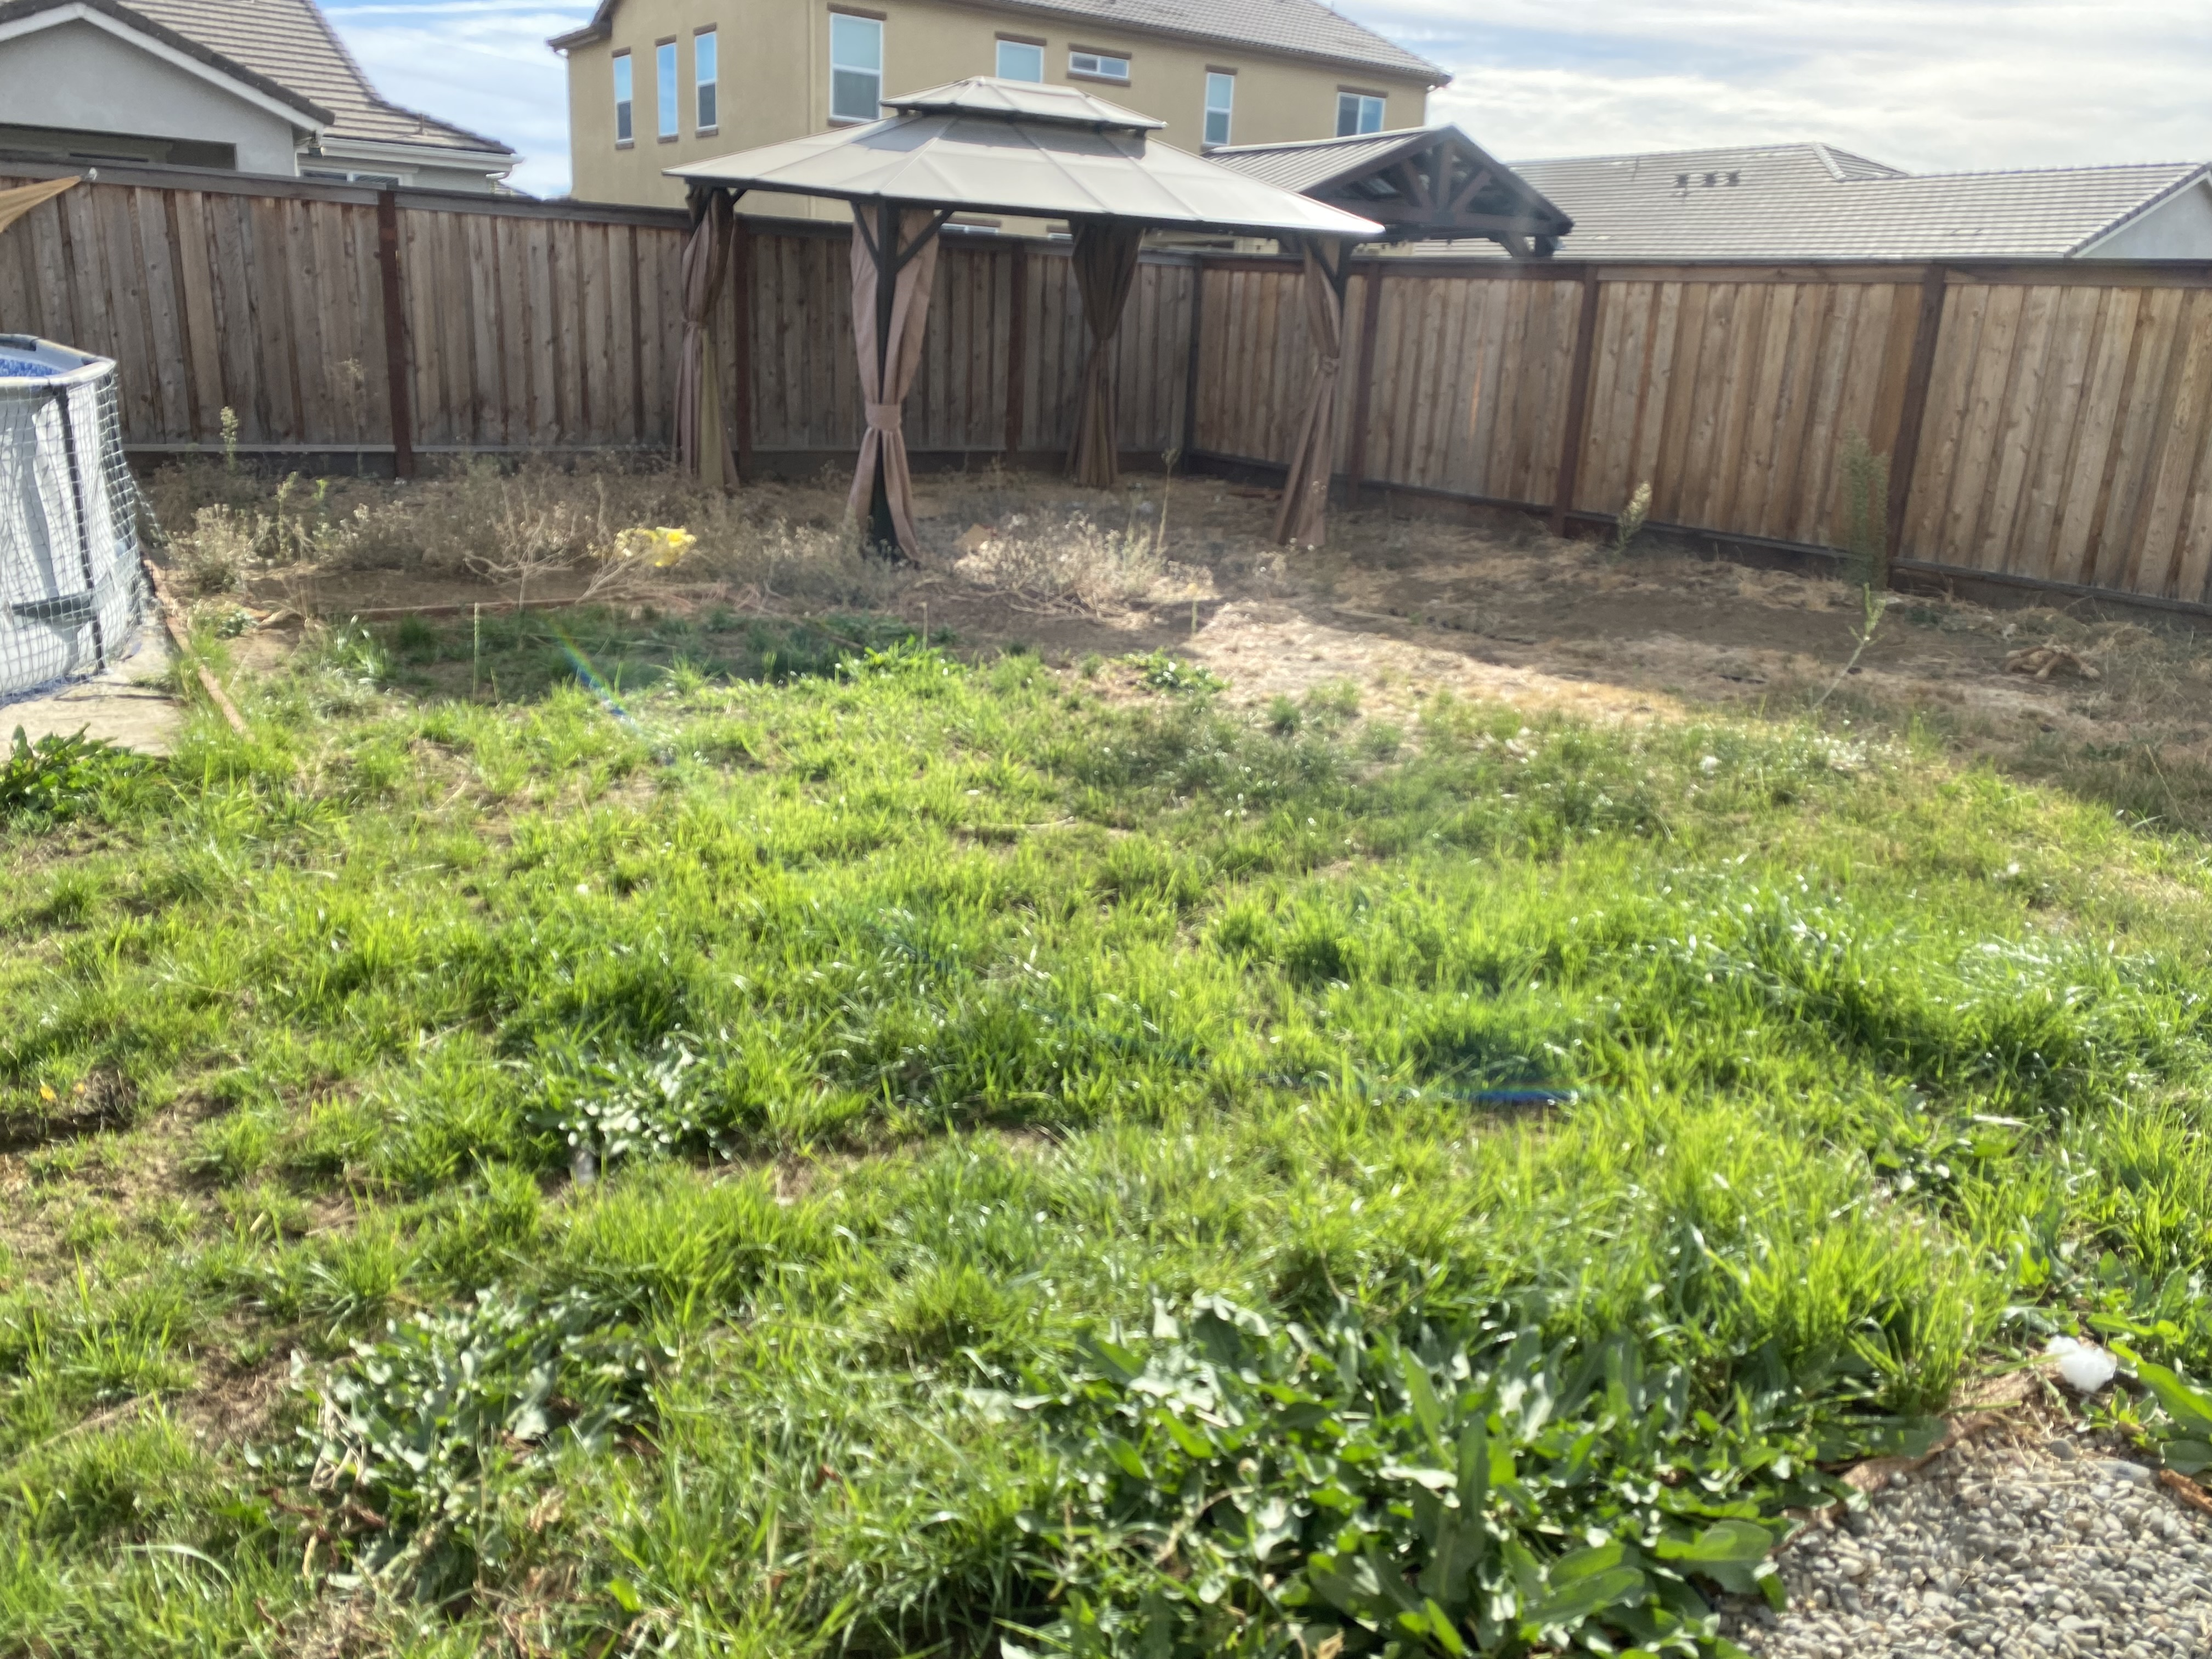weed: (1029, 1276, 1970, 1659), (369, 1298, 655, 1518), (524, 1018, 745, 1166), (7, 727, 127, 802)
